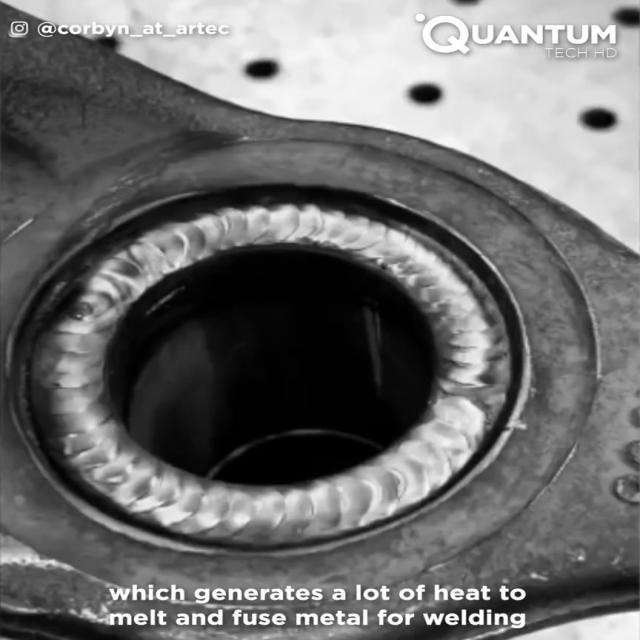Good Welding: (78, 459, 430, 542), (406, 263, 512, 469), (124, 211, 435, 265), (35, 268, 118, 454)
